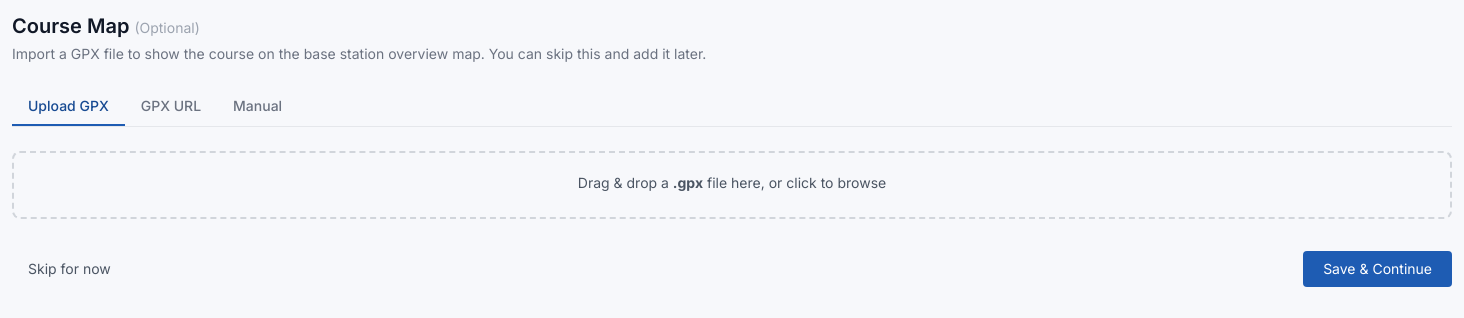
Test: CourseMapStep › shows CORS warning when GPX URL tab is active
The width and height of the screenshot is (1464, 318).
Click the tab "GPX URL".
click(171, 107)  # box [125,88,217,126]
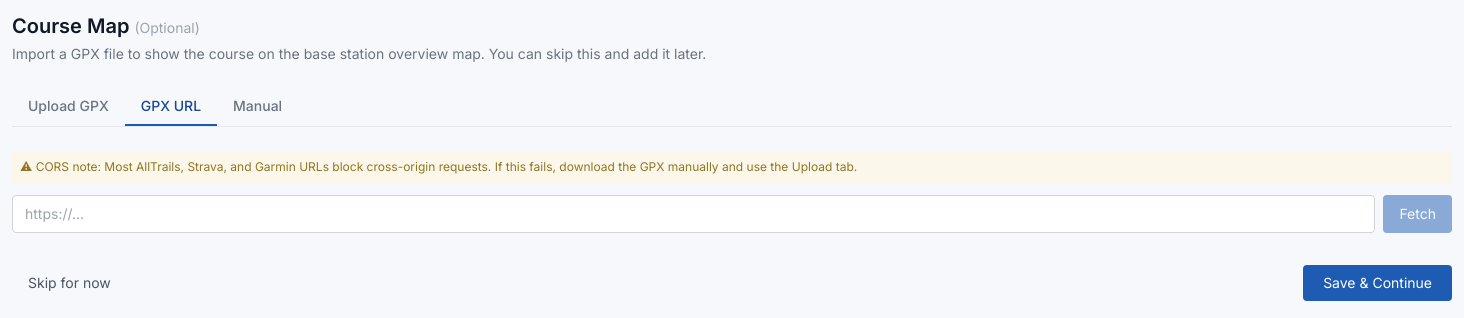
Check: the text "CORS" is shown, box [20,159,857,174]
